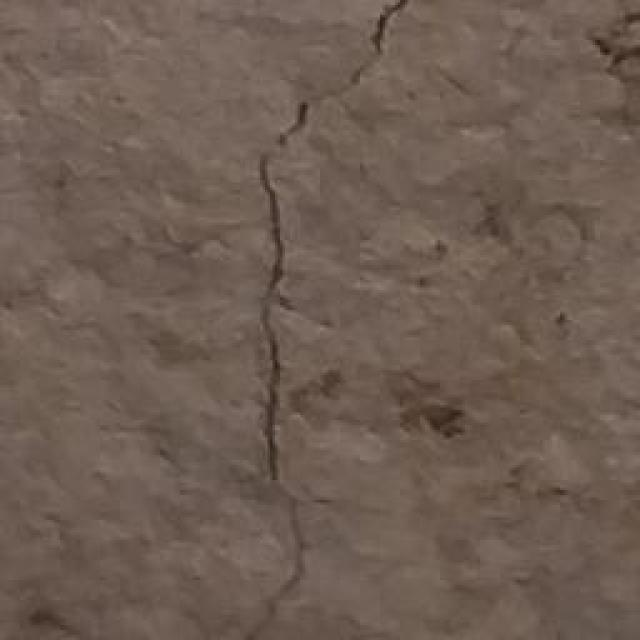Longitudinal: (207, 2, 427, 640)
